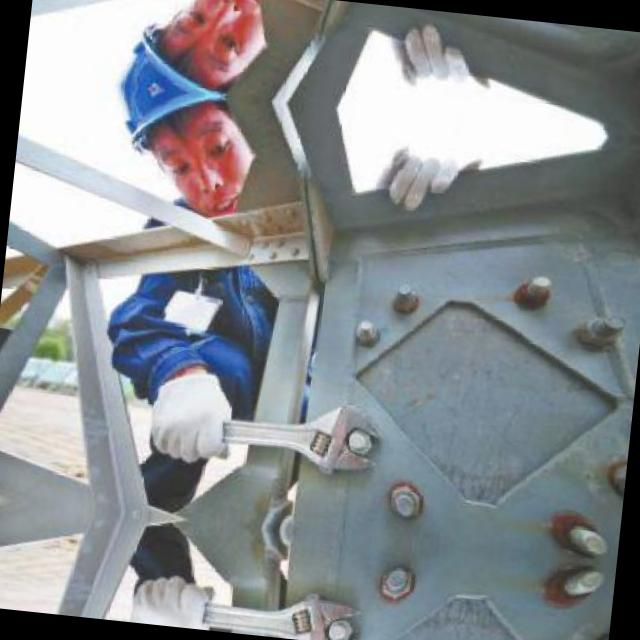helmet: (96, 85, 270, 226), (108, 0, 281, 99)
